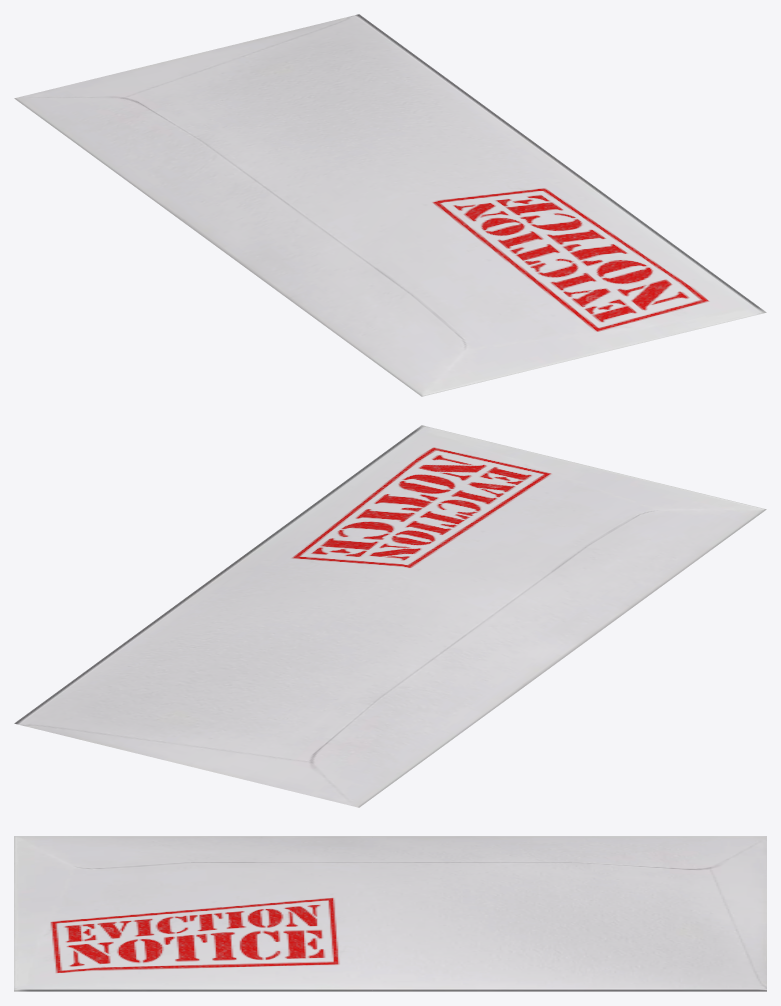
The model's file is SOBRE1.fbx.
3 views of the same model, one above another, from view 1: azimuth 30°, elevation 25°; view 2: azimuth 150°, elevation 25°; view 3: azimuth 270°, elevation 25° (orthographic). The views are drawn at different scales.
Visible parts, largest first — view 1: SOBRE1; view 2: SOBRE1; view 3: SOBRE1.
Part boxes in pixels (x1,y1,x2,y2): SOBRE1: (14, 14, 766, 396); SOBRE1: (14, 425, 766, 807); SOBRE1: (14, 836, 766, 991).
Size of the model in its own units: 13.12 by 1.87 by 26.83.
